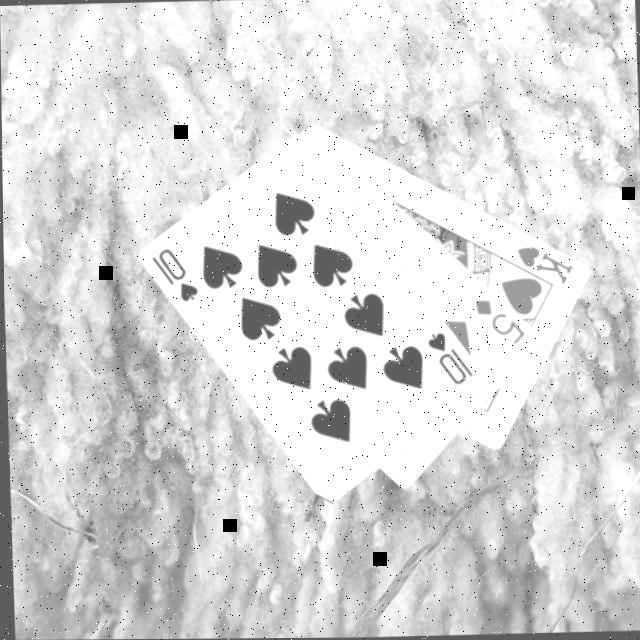10S: (146, 242, 200, 305), (420, 328, 474, 388)
5D: (469, 294, 527, 348)
KH: (510, 241, 576, 288)
